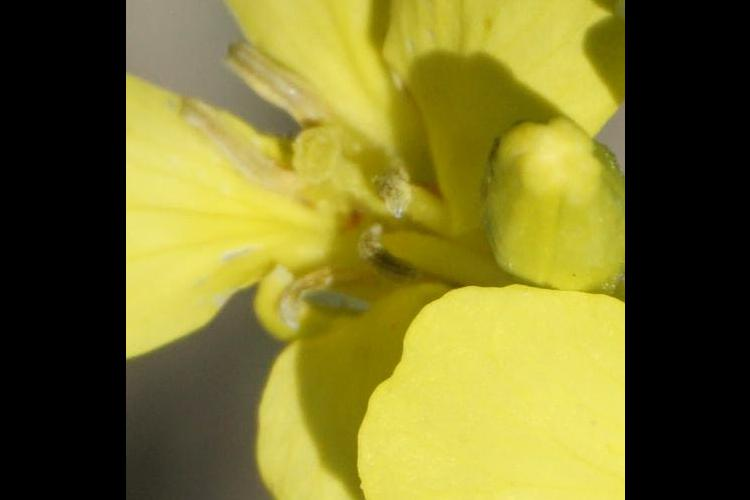bud: (479, 104, 612, 287)
yellow: (151, 1, 535, 500)
